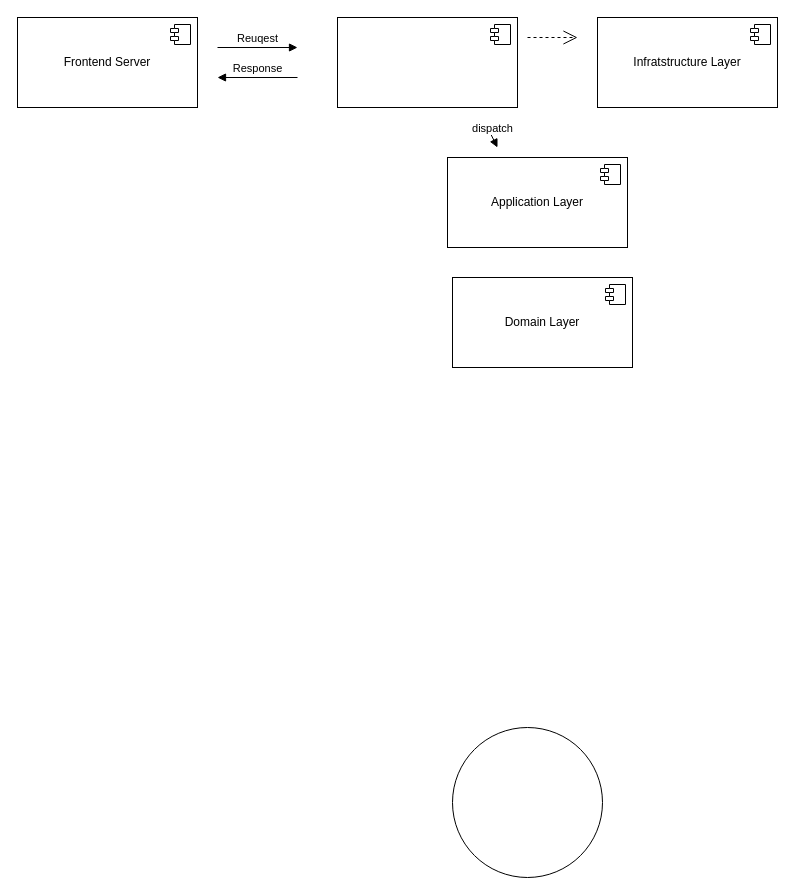
This 795x895 diagram has some shape labels left out. Here are the shapes that lost their labels. From the top down, the centre of each, then its label:
point (427, 62): Presentation Layer
point (527, 802): Domain
